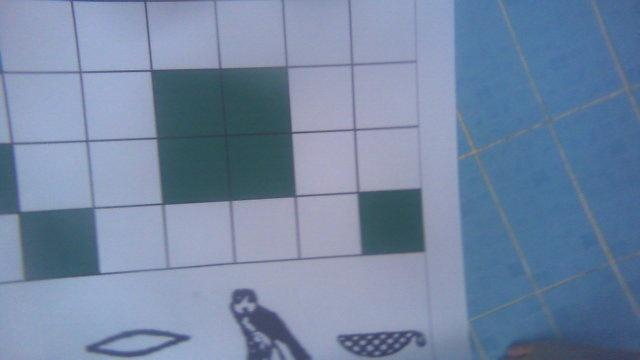Basket: (328, 328, 432, 355)
Mouth: (81, 324, 194, 360)
Owl: (224, 286, 315, 360)
